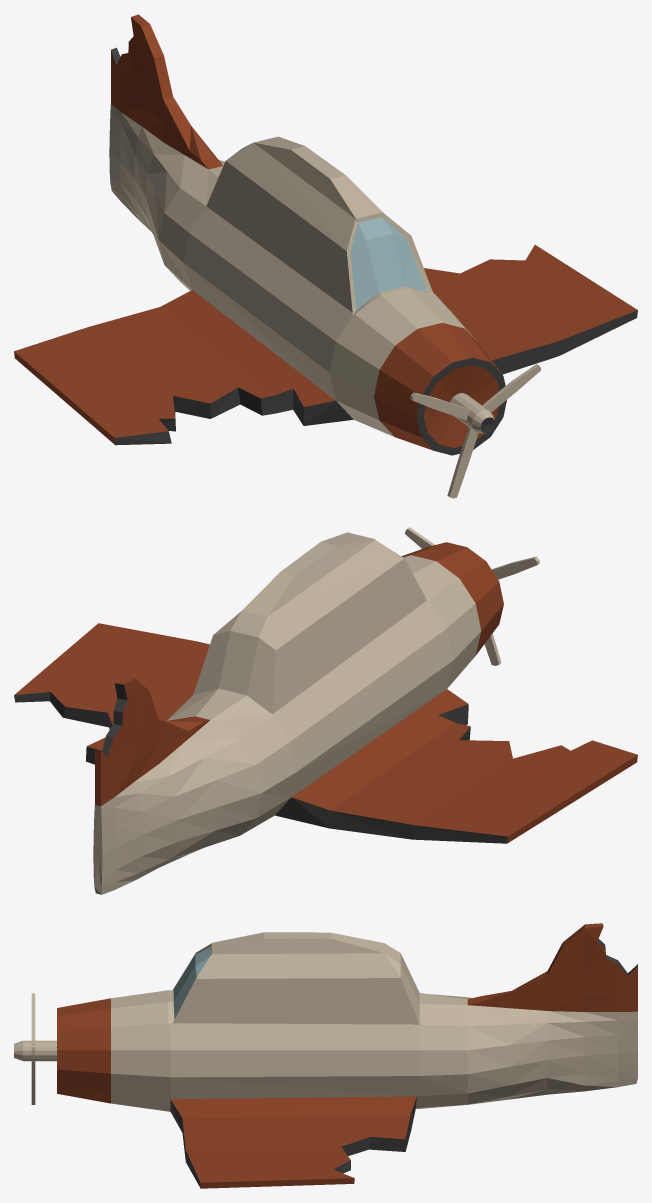
File: Flugzeug.fbx
3 views of the same model, one above another, from view 1: azimuth 30°, elevation 25°; view 2: azimuth 150°, elevation 25°; view 3: azimuth 270°, elevation 25° (orthographic). The views are drawn at different scales.
Visible parts, largest first — view 1: Zylinder_1; view 2: Zylinder_1; view 3: Zylinder_1.
Boxes of the visible parts, bbox=[...] form: Zylinder_1: bbox=[14, 14, 637, 498]; Zylinder_1: bbox=[14, 527, 637, 894]; Zylinder_1: bbox=[14, 923, 637, 1188].
Bounding box in the file's own units: 467 × 193 × 579.
